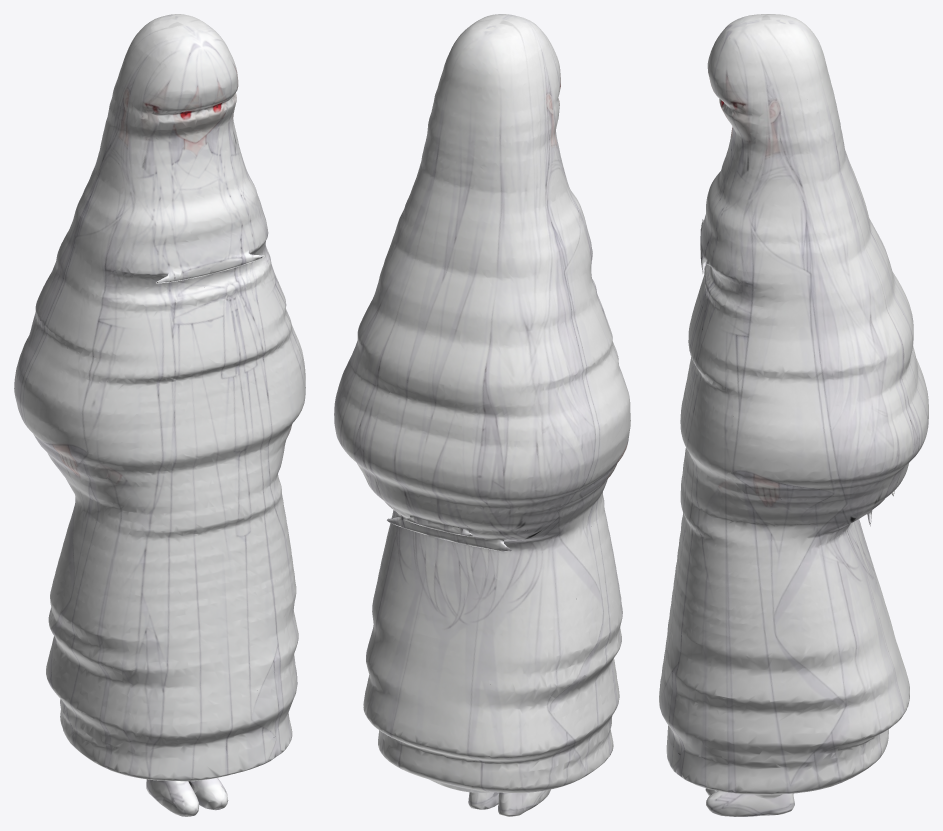
The model's file is aura_character.glb.
The picture shows the model from 3 angles, left to right: view 1: azimuth 30°, elevation 25°; view 2: azimuth 150°, elevation 25°; view 3: azimuth 270°, elevation 25°; orthographic projection.
Parts seen in each view (by area): view 1: aura_character; view 2: aura_character; view 3: aura_character.
Boxes of the visible parts, <box> form: aura_character: <box>14,14,305,816</box>; aura_character: <box>334,14,630,816</box>; aura_character: <box>659,14,928,816</box>.
Size of the model in its own units: 0.5698 by 1.66 by 0.5166.
1 material, 1 textured.
